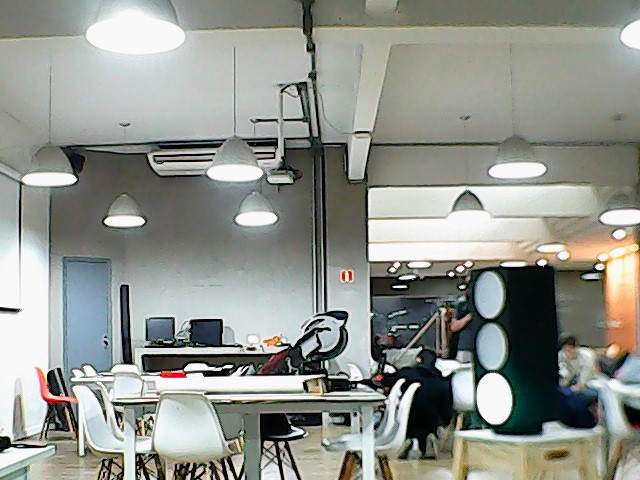verde: (462, 264, 562, 433)
